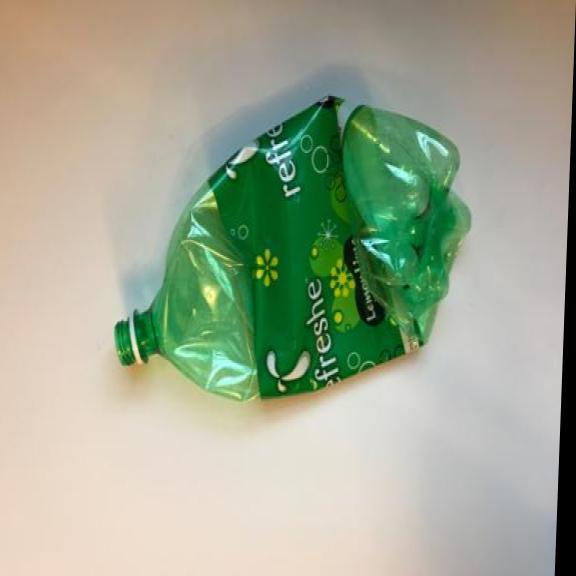Plastik: (108, 85, 480, 417)
